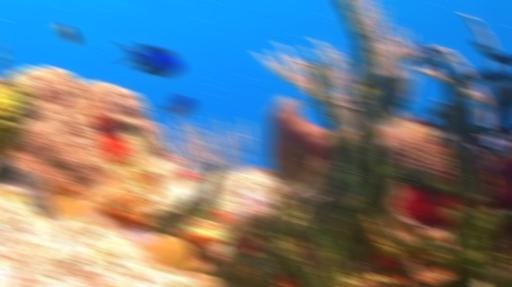Fish: (116, 42, 183, 76), (360, 75, 407, 119), (161, 95, 194, 123), (55, 22, 78, 43), (296, 99, 311, 106)
